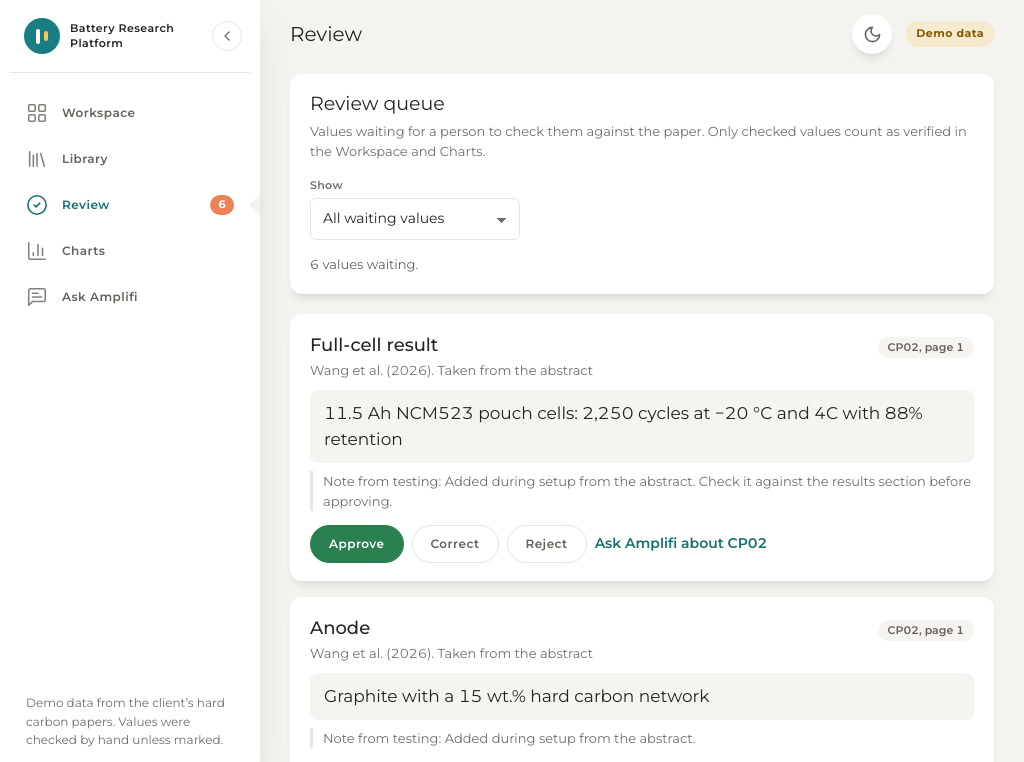
Test: Review › approves a value, updates the badge and confirms
Expected: the text "6 values waiting." is shown, [310,256,418,272]
Click the button "Approve" below "Full-cell result".
click(357, 544)  # box [310,525,404,563]
(page scrolled)
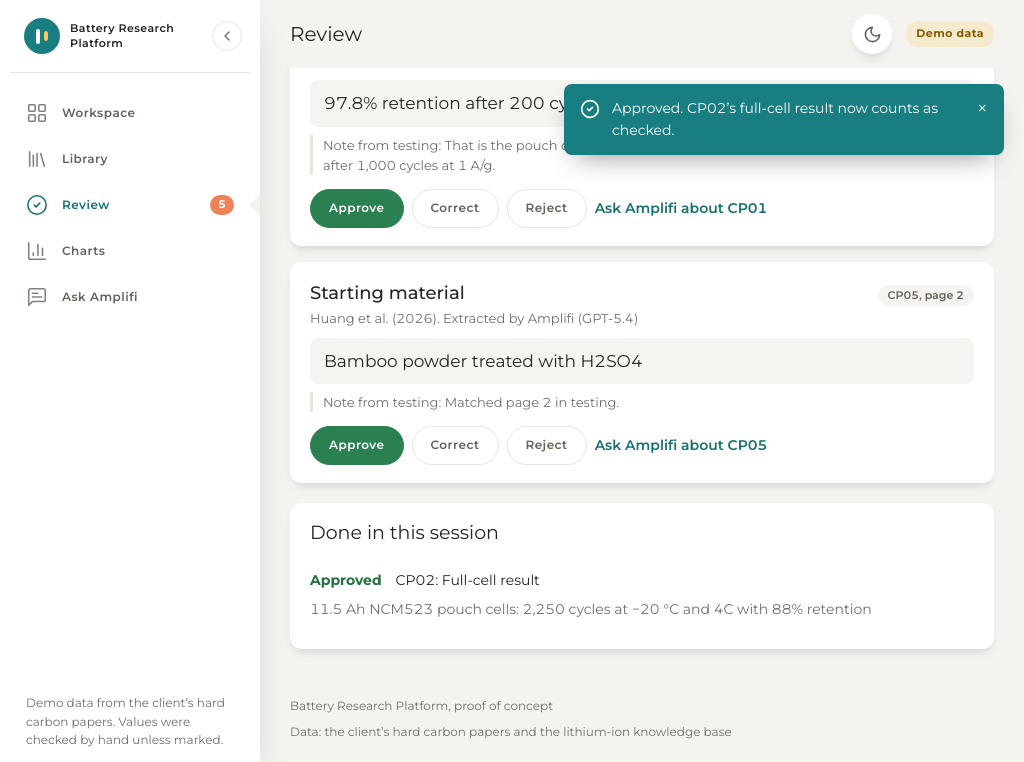
Expected: the link with aria-label "Review, 5 waiting" is shown, [26,194,234,216]
Expected: the message "Approved. CP02’s full-cell result now counts as checked. ×" is shown, [564,84,1004,155]
Expected: the text "Approved. CP02’s full-cell result now counts as checked." is shown, [612,98,960,141]
